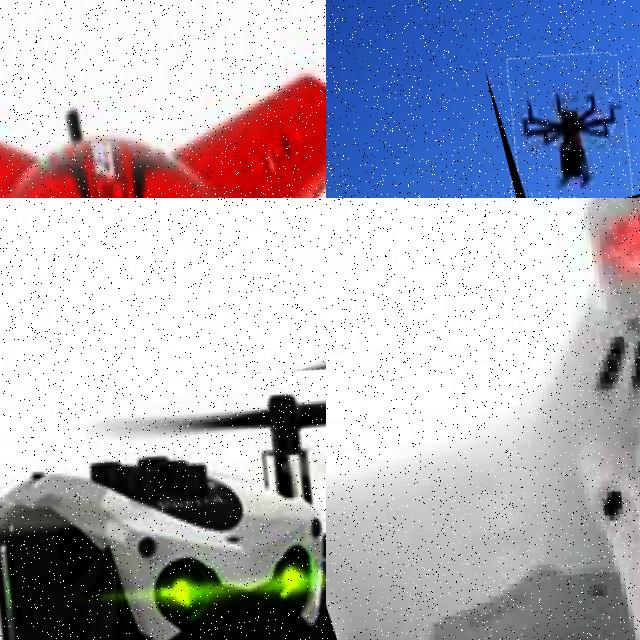0: (484, 39, 640, 198)
drone: (326, 198, 640, 640), (0, 283, 326, 640), (0, 0, 326, 198)
